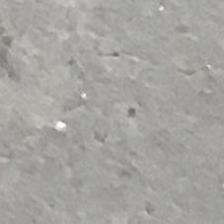Non_Crack: (34, 34, 211, 179)
